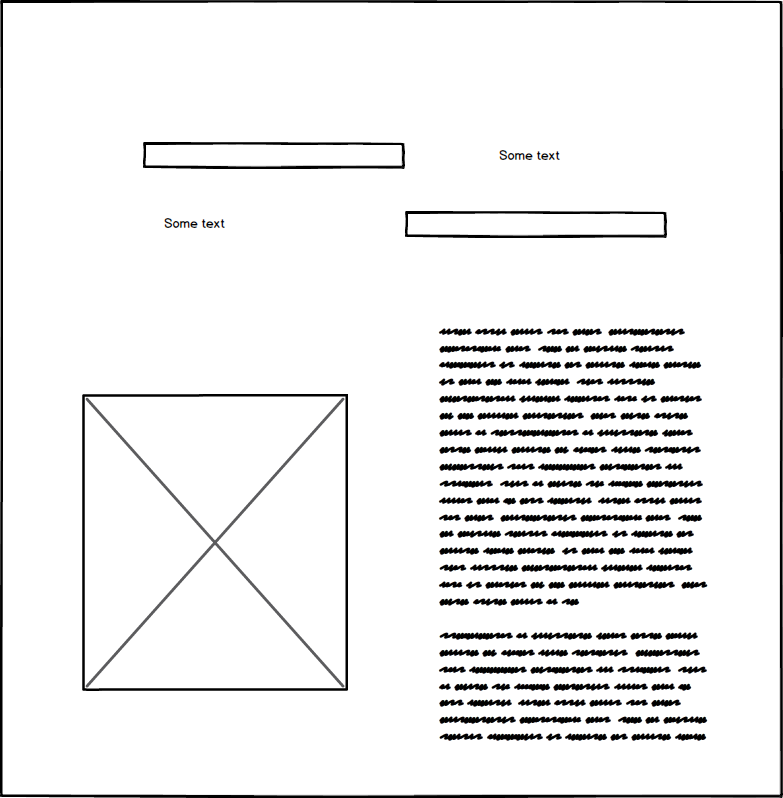image: (76, 386, 355, 697)
input: (138, 135, 412, 174), (398, 206, 677, 243)
label: (161, 212, 236, 236), (494, 146, 572, 167)
p: (432, 319, 723, 754)
